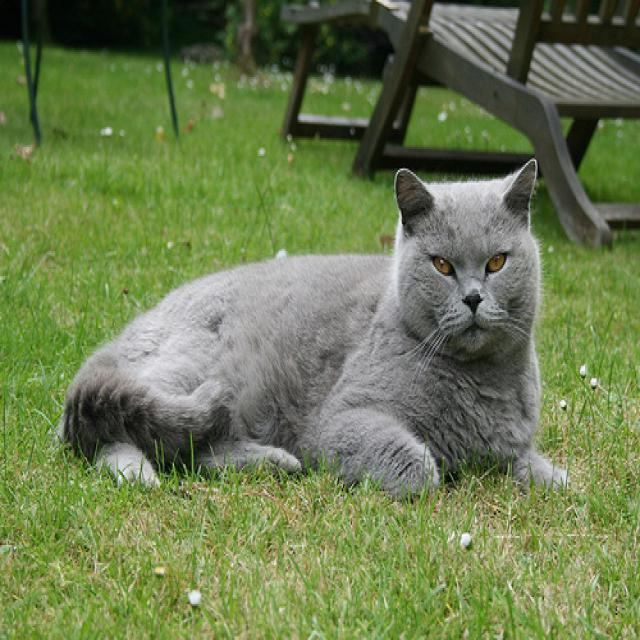British_Shorthair: (388, 156, 544, 387)
